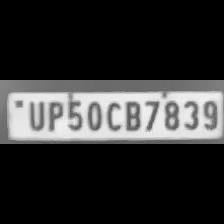0: (84, 98, 103, 132)
3: (180, 97, 200, 131)
5: (64, 97, 82, 131)
7: (142, 97, 160, 131)
8: (160, 98, 182, 132)
9: (200, 97, 218, 130)
B: (122, 98, 142, 132)
C: (104, 98, 122, 132)
P: (44, 98, 64, 132)
U: (23, 98, 45, 132)
